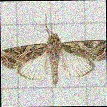Spodoptera litura: (1, 13, 107, 86)
